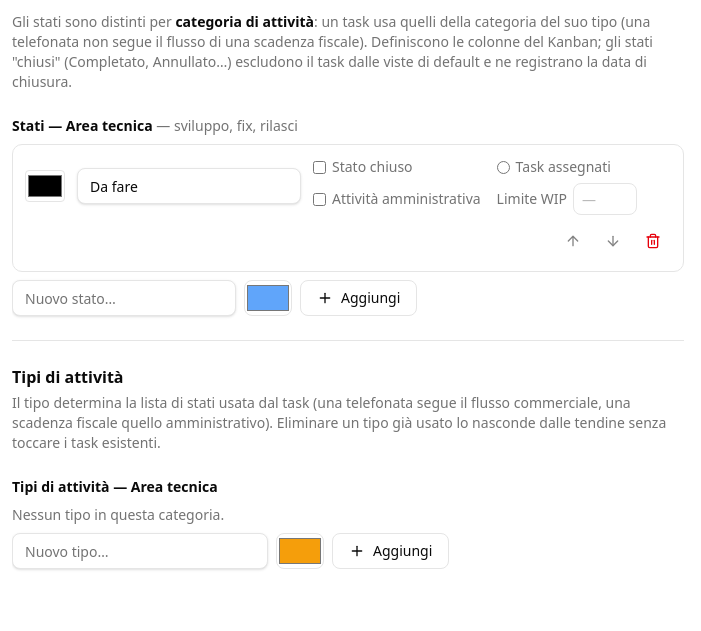
Scenario: stati: quando il server rifiuta › l'aggiunta fallita si vede a schermo, non solo in cima alla pagina
Type "Pronto per DEV" into the field with placeholder "Nuovo stato…" at (124, 298), box [12,280,236,316]
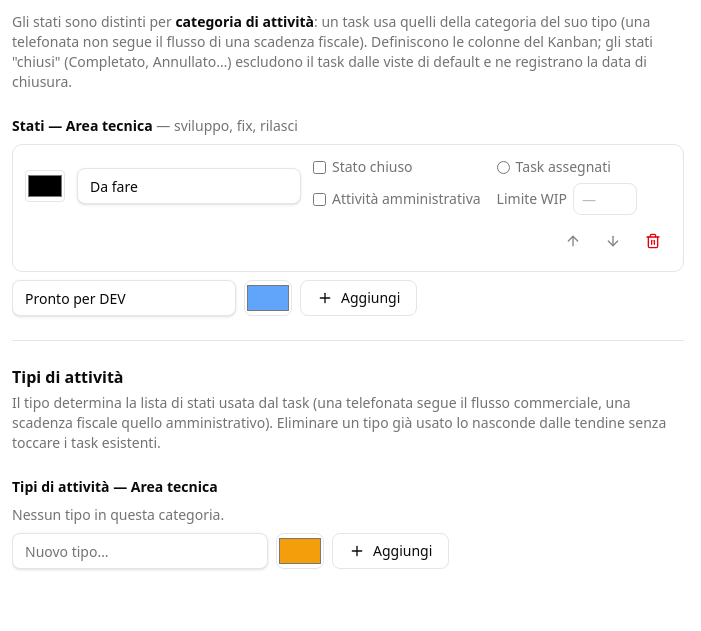
// il modulo degli STATI, non quello dei tipi che sta più sotto
Submit the form with placeholder "Nuovo stato…" below "Attività amministrativa", box [11,276,417,316]
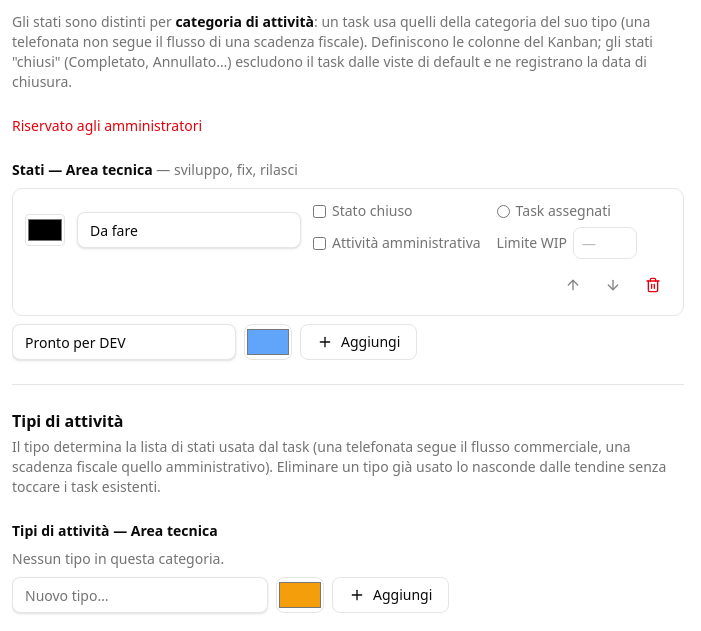
Expected: the text "Riservato agli amministratori" is shown, [12,116,202,135]
